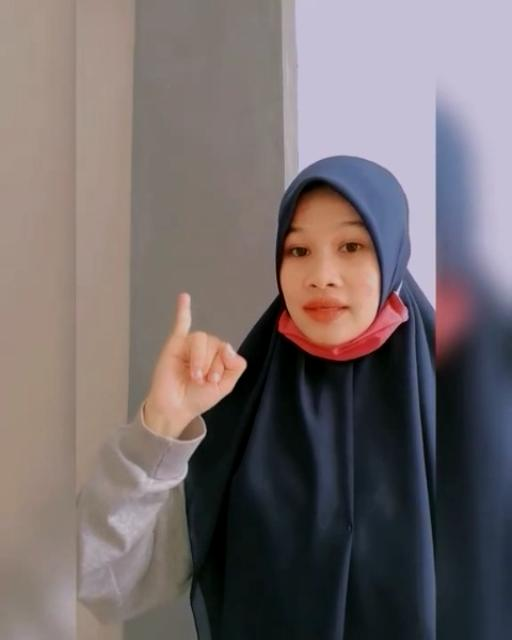I: (154, 295, 248, 423)
